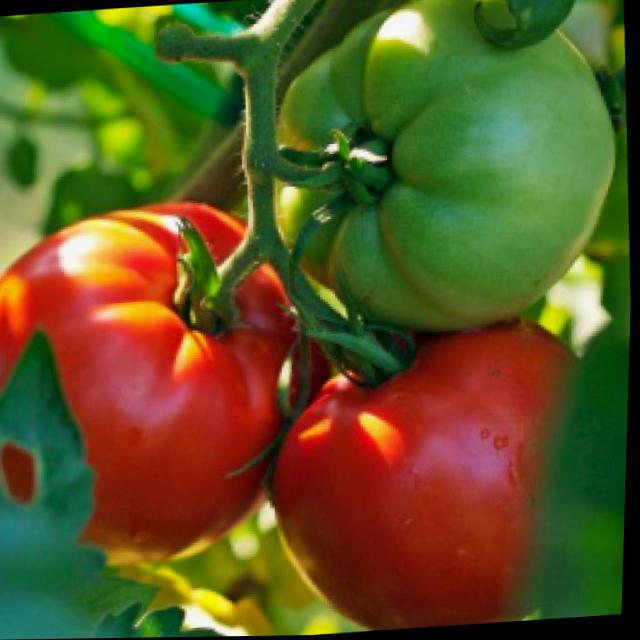tomato: (0, 194, 307, 571), (261, 320, 593, 636)
